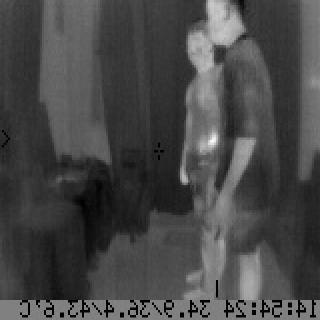Gun: (196, 128, 222, 172)
